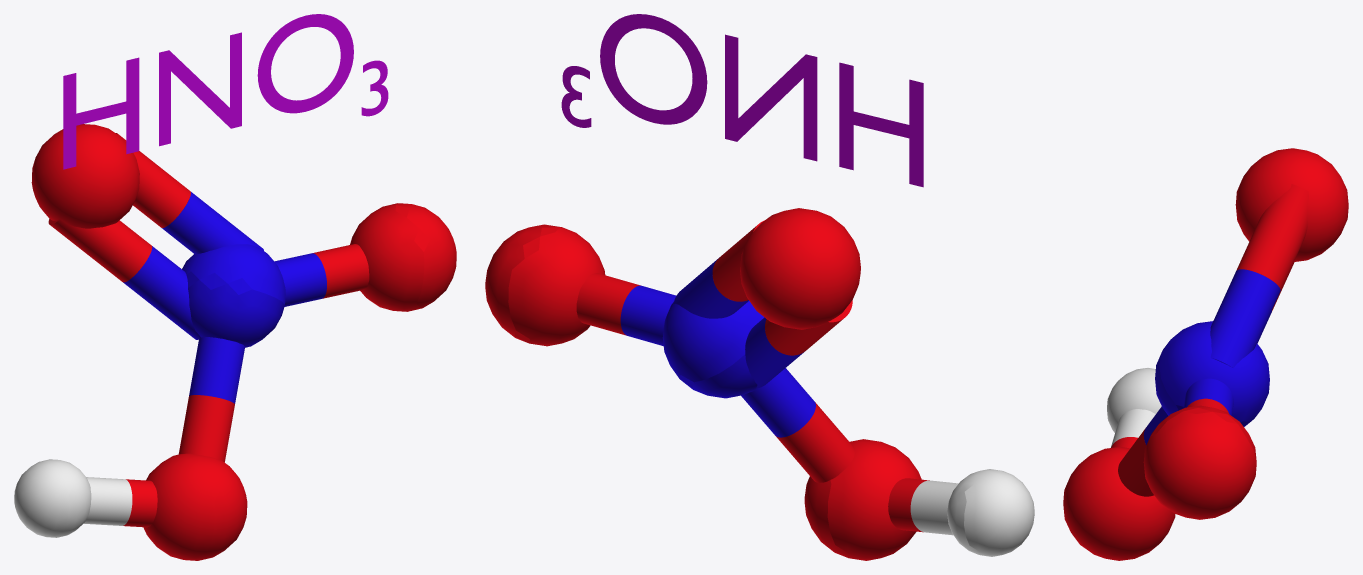
The model's file is hno3.glb.
3 renders of one model, left to right at view 1: azimuth 30°, elevation 25°; view 2: azimuth 150°, elevation 25°; view 3: azimuth 270°, elevation 25°, orthographic. The views are drawn at different scales.
Parts seen in each view (by area): view 1: Shape_IndexedFaceSet.022, Shape_IndexedFaceSet.002, Shape_IndexedFaceSet.017, Shape_IndexedFaceSet.013, Text, Shape_IndexedFaceSet.019, Text.001; view 2: Shape_IndexedFaceSet.022, Shape_IndexedFaceSet.002, Shape_IndexedFaceSet.017, Shape_IndexedFaceSet.013, Text, Shape_IndexedFaceSet.019, Text.001; view 3: Shape_IndexedFaceSet.022, Shape_IndexedFaceSet.002, Shape_IndexedFaceSet.013, Shape_IndexedFaceSet.017, Shape_IndexedFaceSet.019.
Boxes of the visible parts, <box> form: Shape_IndexedFaceSet.022: <box>123,192,326,403</box>; Shape_IndexedFaceSet.002: <box>31,124,190,282</box>; Shape_IndexedFaceSet.017: <box>123,395,247,560</box>; Shape_IndexedFaceSet.013: <box>312,203,456,311</box>; Text: <box>63,14,353,169</box>; Shape_IndexedFaceSet.019: <box>14,459,132,537</box>; Text.001: <box>361,60,388,116</box>; Shape_IndexedFaceSet.022: <box>620,257,815,437</box>; Shape_IndexedFaceSet.002: <box>712,208,860,355</box>; Shape_IndexedFaceSet.017: <box>775,402,929,560</box>; Shape_IndexedFaceSet.013: <box>485,224,640,346</box>; Text: <box>600,14,923,187</box>; Shape_IndexedFaceSet.019: <box>910,469,1034,556</box>; Text.001: <box>561,66,591,127</box>; Shape_IndexedFaceSet.022: <box>1143,269,1280,444</box>; Shape_IndexedFaceSet.002: <box>1235,148,1348,310</box>; Shape_IndexedFaceSet.013: <box>1143,398,1256,519</box>; Shape_IndexedFaceSet.017: <box>1063,428,1175,560</box>; Shape_IndexedFaceSet.019: <box>1107,368,1161,446</box>.
Bounding box in the file's own units: 8.92 × 8.9 × 4.65.
